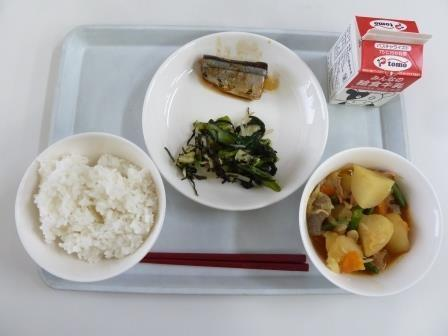Fish: (191, 47, 275, 100)
Milk: (322, 10, 435, 111)
Rice: (14, 146, 153, 263)
Salad: (172, 118, 274, 196)
vegetable based cooked food: (298, 156, 440, 282)
